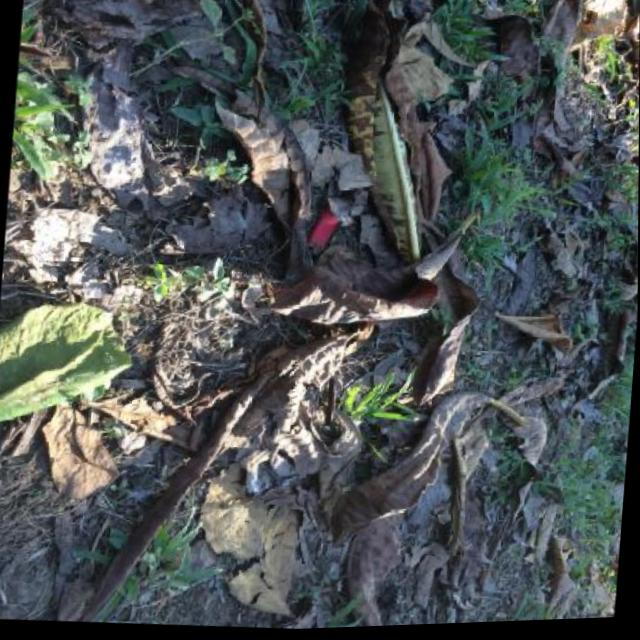other: (304, 201, 340, 258)
